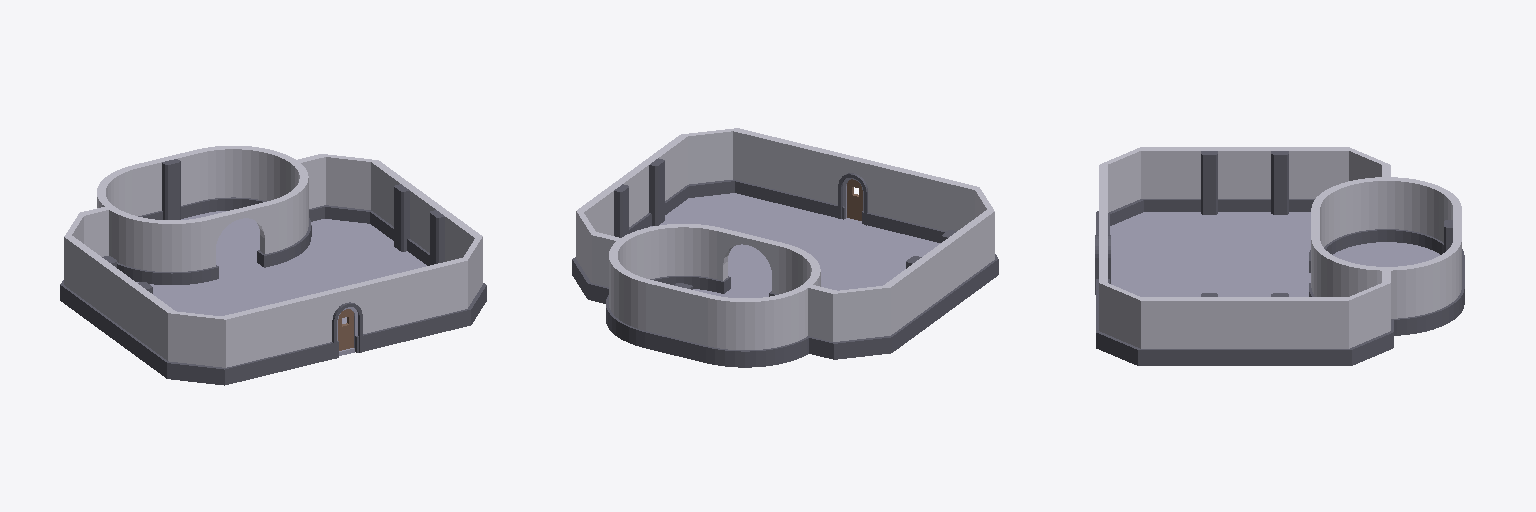
Rendered from room_sm_04.obj.
The picture shows the model from 3 angles: view 1: azimuth 30°, elevation 25°; view 2: azimuth 150°, elevation 25°; view 3: azimuth 270°, elevation 25°; orthographic projection.
Visible parts, largest first — view 1: corner_02_7, corner_03_12, floor_02_4, corner_02_9, corner_03_14, wall_01_21, wall_01_22, door_01_23, wall_02_16, corner_02_10, floor_04_3, corner_03_11 (+10 smaller); view 2: corner_03_13, corner_02_8, corner_02_10, corner_03_11, floor_02_1, wall_02_16, wall_01_21, wall_01_22, door_01_23, floor_02_0, corner_03_14, corner_02_9 (+9 smaller); view 3: floor_02_0, corner_02_9, corner_02_10, corner_03_14, wall_02_17, wall_02_18, wall_02_19, wall_02_20, floor_02_5, corner_02_7, corner_03_12, corner_03_13 (+7 smaller).
Part boxes in pixels (left/top/right/bottom): corner_02_7: left=149, top=299, right=256, bottom=385; corner_03_12: left=107, top=206, right=210, bottom=284; floor_02_4: left=233, top=219, right=422, bottom=290; corner_02_9: left=291, top=154, right=394, bottom=233; corner_03_14: left=195, top=146, right=295, bottom=213; wall_01_21: left=373, top=265, right=439, bottom=347; wall_01_22: left=249, top=294, right=317, bottom=377; door_01_23: left=312, top=280, right=378, bottom=362; wall_02_16: left=135, top=150, right=201, bottom=219; corner_02_10: left=433, top=224, right=486, bottom=332; floor_04_3: left=215, top=236, right=301, bottom=305; corner_03_11: left=267, top=163, right=311, bottom=265; corner_03_13: left=706, top=285, right=809, bottom=367; corner_02_8: left=803, top=273, right=909, bottom=359; corner_02_10: left=664, top=128, right=767, bottom=208; corner_03_11: left=620, top=224, right=722, bottom=291; floor_02_1: left=650, top=193, right=825, bottom=262; wall_02_16: left=644, top=280, right=710, bottom=362; wall_01_21: left=761, top=135, right=829, bottom=213; wall_01_22: left=883, top=165, right=949, bottom=242; door_01_23: left=822, top=150, right=890, bottom=228; floor_02_0: left=821, top=229, right=940, bottom=287; corner_03_14: left=606, top=241, right=650, bottom=347; corner_02_9: left=572, top=199, right=625, bottom=303; floor_02_0: left=1110, top=212, right=1248, bottom=270; corner_02_9: left=1313, top=267, right=1393, bottom=365; corner_02_10: left=1096, top=268, right=1177, bottom=365; corner_03_14: left=1385, top=238, right=1464, bottom=335; wall_02_17: left=1241, top=293, right=1315, bottom=365; wall_02_18: left=1171, top=293, right=1248, bottom=365; wall_02_19: left=1172, top=147, right=1247, bottom=214; wall_02_20: left=1242, top=147, right=1315, bottom=214; floor_02_5: left=1240, top=212, right=1390, bottom=270; corner_02_7: left=1096, top=147, right=1176, bottom=227; corner_03_12: left=1309, top=177, right=1388, bottom=256; corner_03_13: left=1387, top=177, right=1464, bottom=256.
Bounding box in the file's own units: 5.21 × 1 × 5.21.